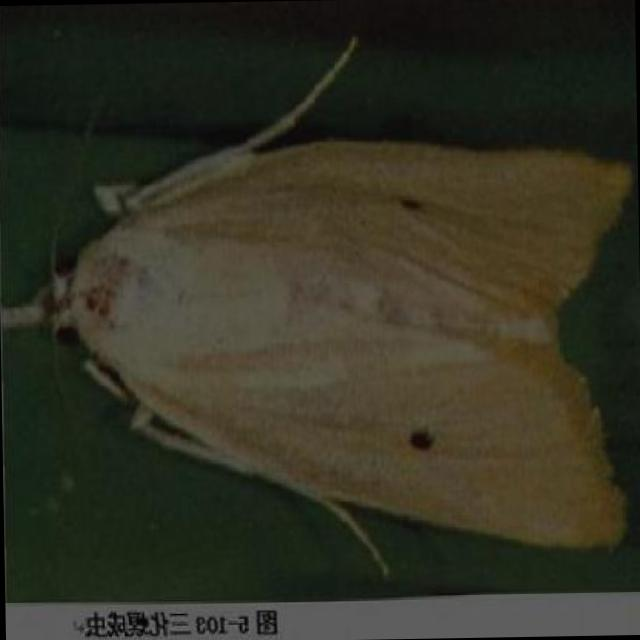stem-borer: (0, 25, 637, 585)
